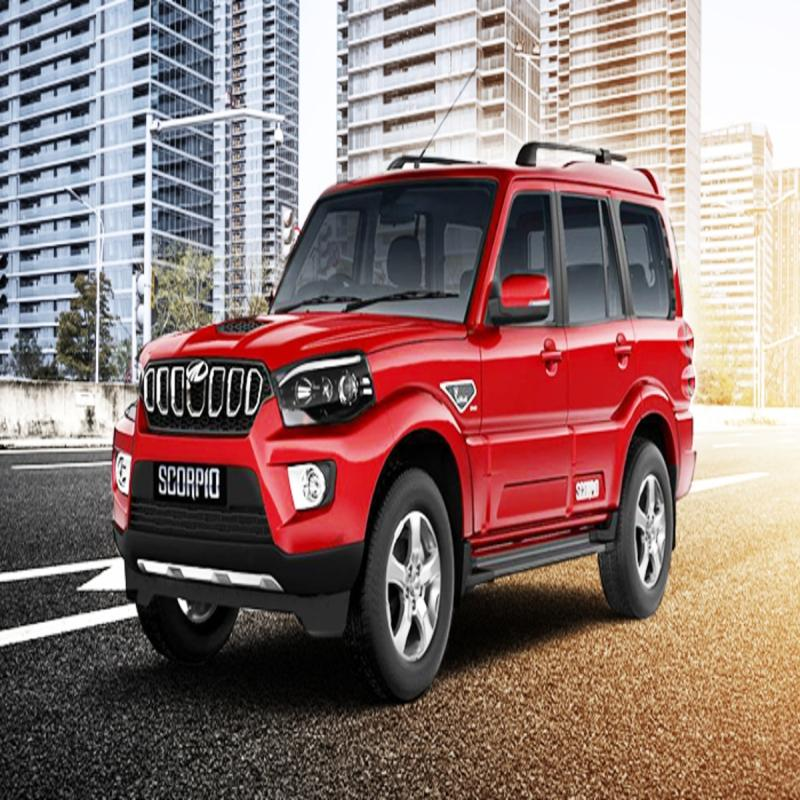car: (108, 134, 660, 686)
